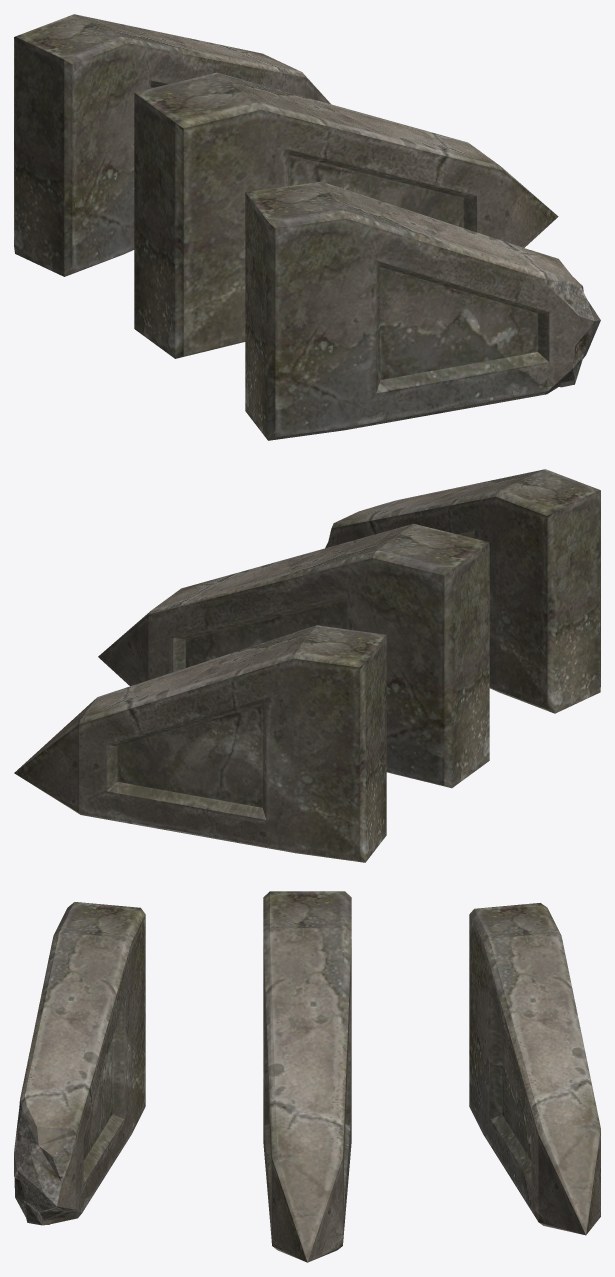
Rendered from bg_lut_lutomb_floor01a_sm_khk.FBX.
3 renders of one model, top to bottom at view 1: azimuth 30°, elevation 25°; view 2: azimuth 150°, elevation 25°; view 3: azimuth 270°, elevation 25°, orthographic. The views are drawn at different scales.
Visible parts, largest first — view 1: bg_lut_lutomb_floor01a_sm_khk; view 2: bg_lut_lutomb_floor01a_sm_khk; view 3: bg_lut_lutomb_floor01a_sm_khk.
Part boxes in pixels (x1,y1,x2,y2): bg_lut_lutomb_floor01a_sm_khk: (14,14,600,440); bg_lut_lutomb_floor01a_sm_khk: (14,469,600,862); bg_lut_lutomb_floor01a_sm_khk: (14,891,600,1262).
Size of the model in its own units: 231 by 125 by 307.
